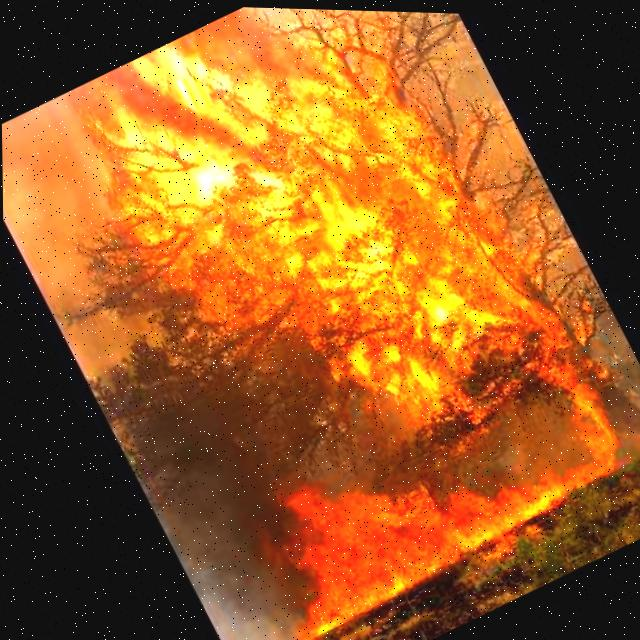Fire: (55, 1, 584, 511), (215, 327, 640, 640)
